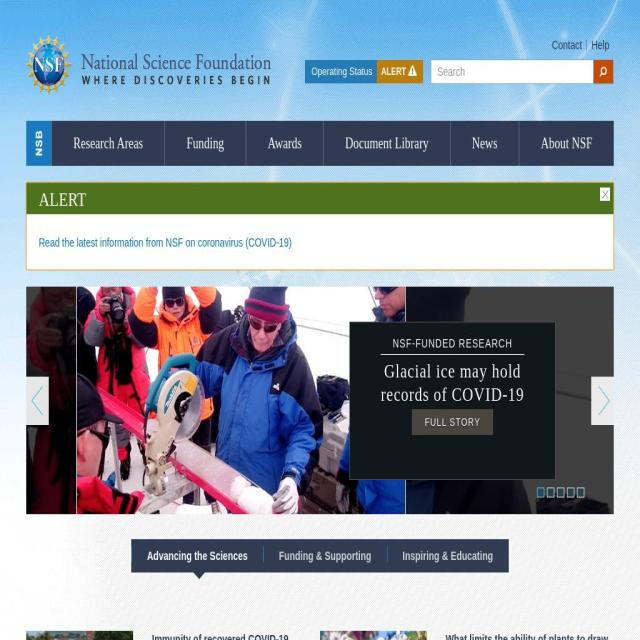button: (323, 121, 450, 166), (52, 121, 165, 166), (131, 539, 264, 573), (518, 121, 614, 166), (263, 539, 388, 573), (387, 539, 509, 573), (164, 121, 246, 166), (246, 121, 323, 166), (450, 121, 519, 166), (305, 60, 424, 83), (26, 631, 320, 640), (320, 631, 614, 640), (26, 121, 52, 165), (26, 376, 49, 425), (591, 376, 614, 425), (548, 37, 587, 53), (592, 59, 614, 84), (588, 37, 614, 53), (600, 187, 610, 201), (26, 286, 36, 292)
field: (430, 59, 594, 84)
heading: (27, 35, 272, 94)
image: (26, 631, 133, 640), (320, 631, 427, 640)
link: (39, 236, 292, 249)
text: (26, 183, 614, 214), (305, 60, 377, 83), (446, 632, 608, 640), (152, 632, 302, 640), (381, 66, 408, 77), (537, 487, 545, 498), (547, 487, 555, 498), (557, 487, 565, 498), (567, 487, 575, 498), (577, 487, 584, 498)
